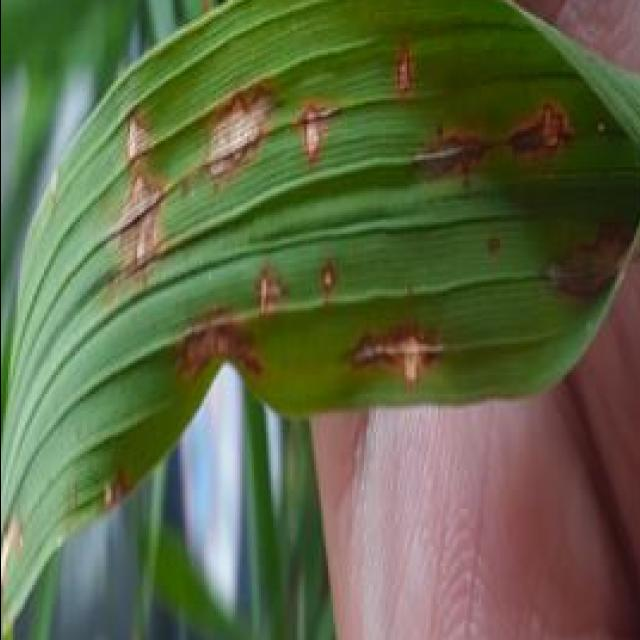Leaf_Blast: (188, 67, 308, 189), (152, 306, 272, 418), (98, 162, 182, 304), (327, 311, 456, 401), (532, 211, 640, 313), (396, 127, 494, 210), (77, 102, 179, 176), (502, 86, 586, 174), (272, 91, 336, 184), (363, 29, 427, 110), (64, 454, 138, 516), (301, 232, 356, 304), (0, 508, 36, 606), (244, 263, 282, 315)
